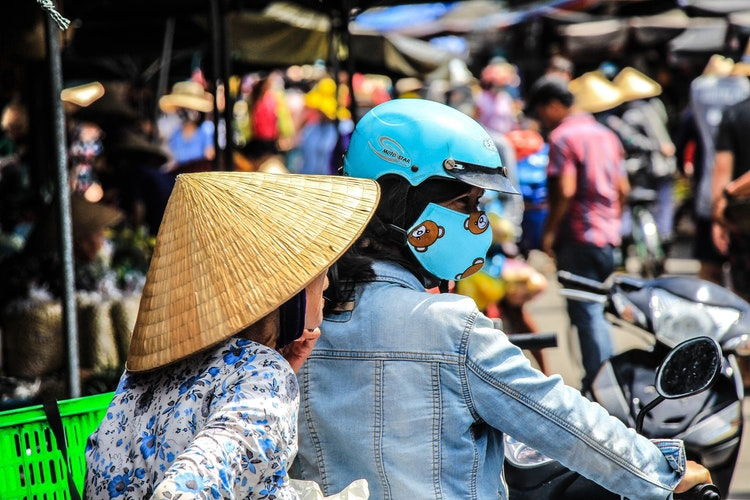helmet: (341, 90, 523, 208)
